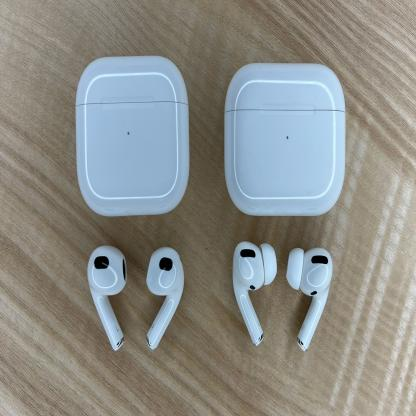Airpods: (80, 242, 130, 354), (289, 242, 335, 350), (227, 241, 271, 345), (147, 245, 186, 354)
